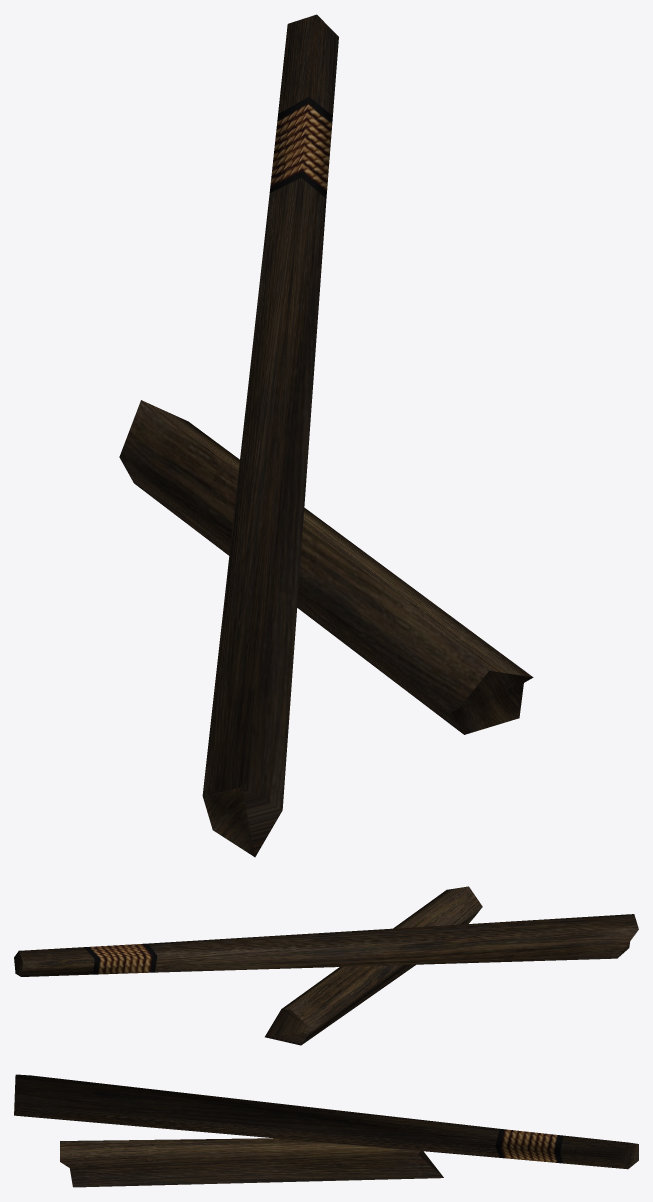
File: mast_broken_prop_2.fbx
The picture shows the model from 3 angles, top to bottom: view 1: azimuth 30°, elevation 25°; view 2: azimuth 150°, elevation 25°; view 3: azimuth 270°, elevation 25°; orthographic projection. The views are drawn at different scales.
Visible parts, largest first — view 1: mast_0_high, mast_base_high; view 2: mast_0_high, mast_base_high; view 3: mast_0_high, mast_base_high.
Boxes of the visible parts, left/top/right/bottom form: mast_0_high: left=202, top=14, right=338, bottom=857; mast_base_high: left=119, top=400, right=533, bottom=734; mast_0_high: left=14, top=914, right=638, bottom=976; mast_base_high: left=265, top=886, right=482, bottom=1045; mast_0_high: left=14, top=1074, right=638, bottom=1169; mast_base_high: left=60, top=1138, right=443, bottom=1187.
Size of the model in its own units: 7333 by 2651 by 10805.
1 material, 1 textured.
